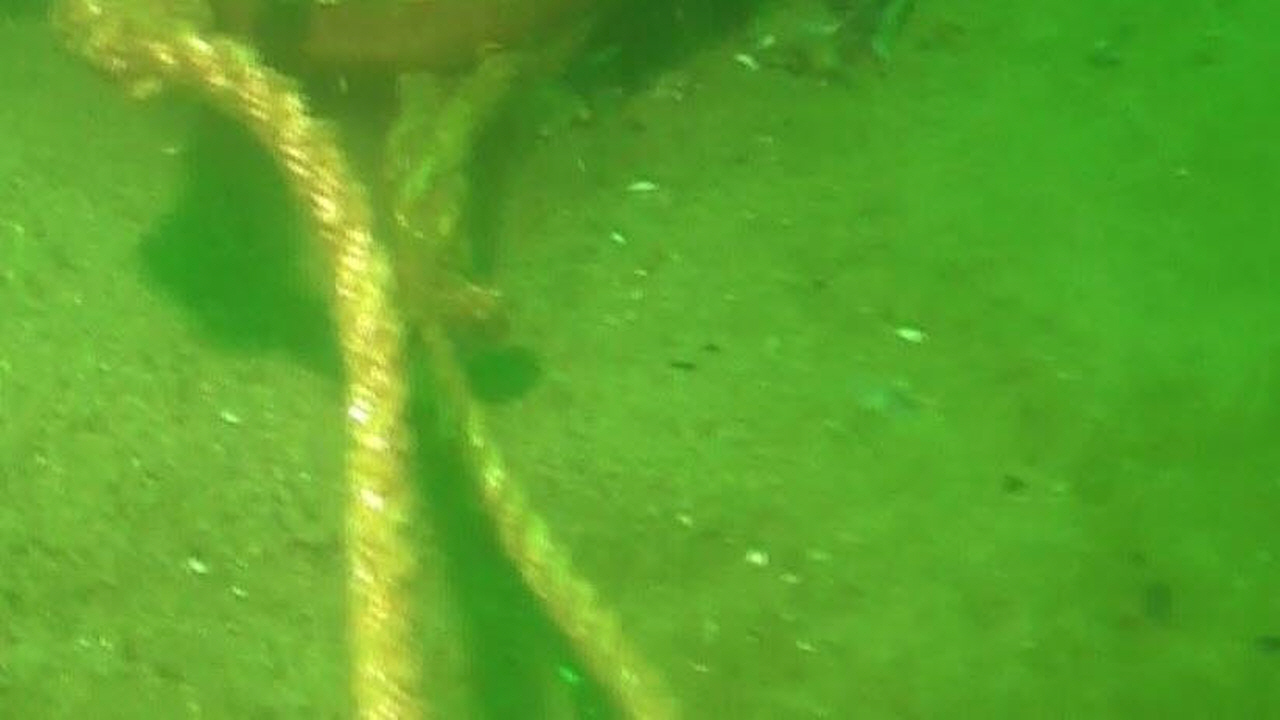rope: (382, 0, 683, 720), (132, 0, 426, 720)
